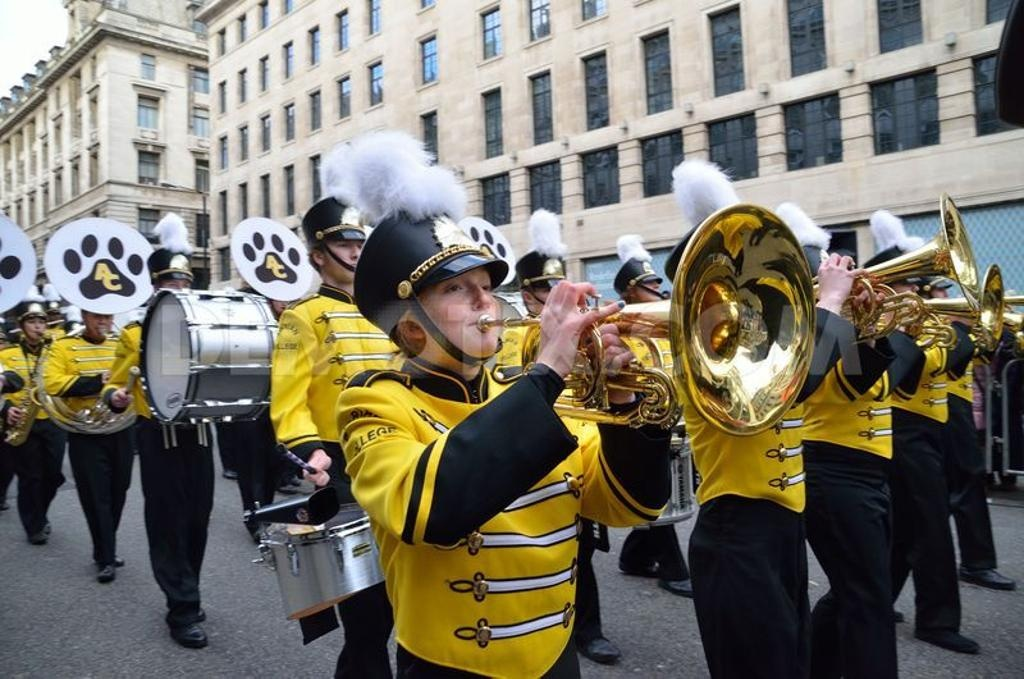human_face: (417, 246, 499, 358), (322, 228, 366, 280), (531, 279, 569, 319), (85, 302, 115, 338), (633, 268, 663, 304), (892, 276, 922, 310), (160, 275, 188, 307), (926, 280, 950, 312), (24, 312, 44, 338)
